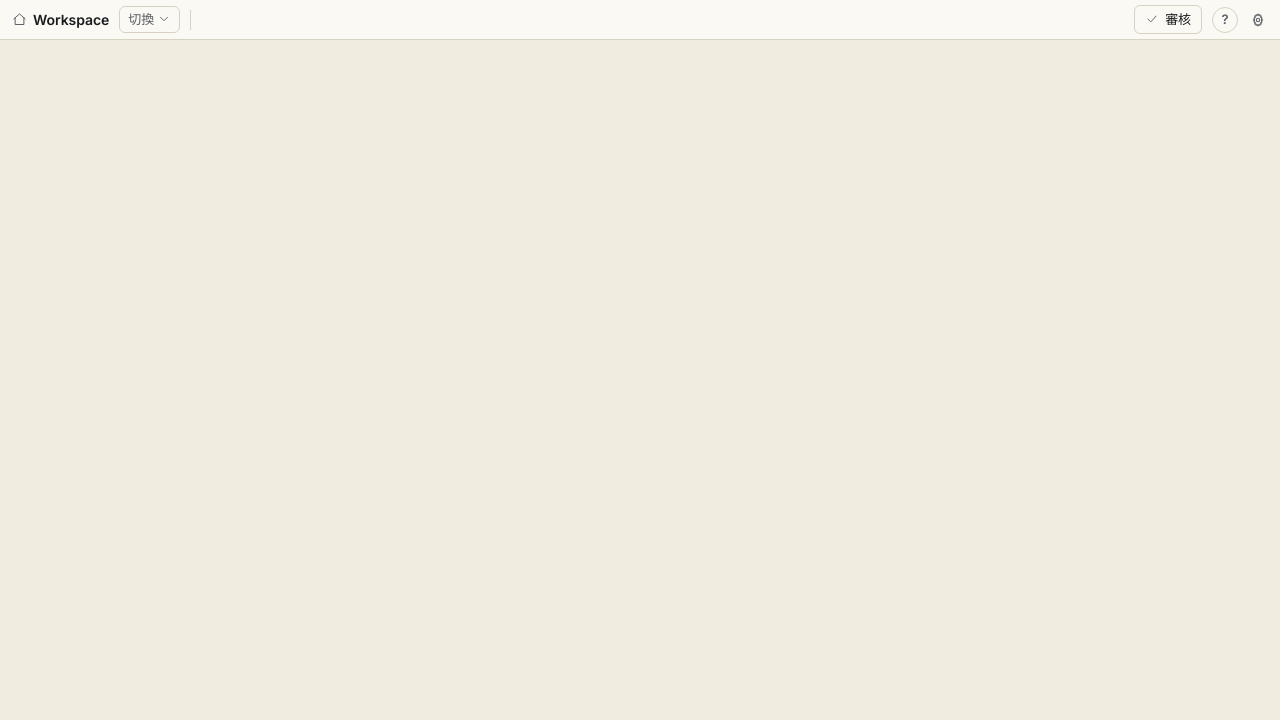
Test case: GlobalNav › switcher draws every row's glyph — Apps and destinations alike
Click the button "切換": (150, 19) top-left (119, 6), bottom-right (180, 32)
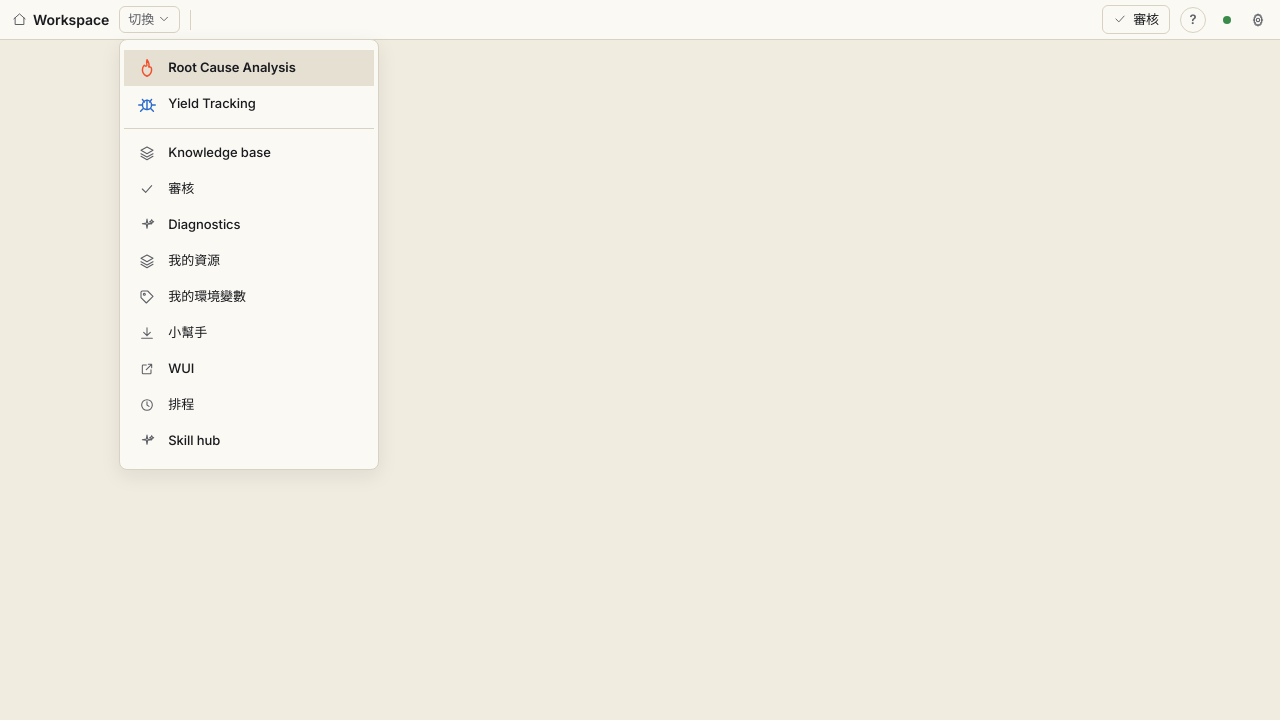
Now the link "Root Cause Analysis" is shown, box top-left (124, 50), bottom-right (374, 86)
